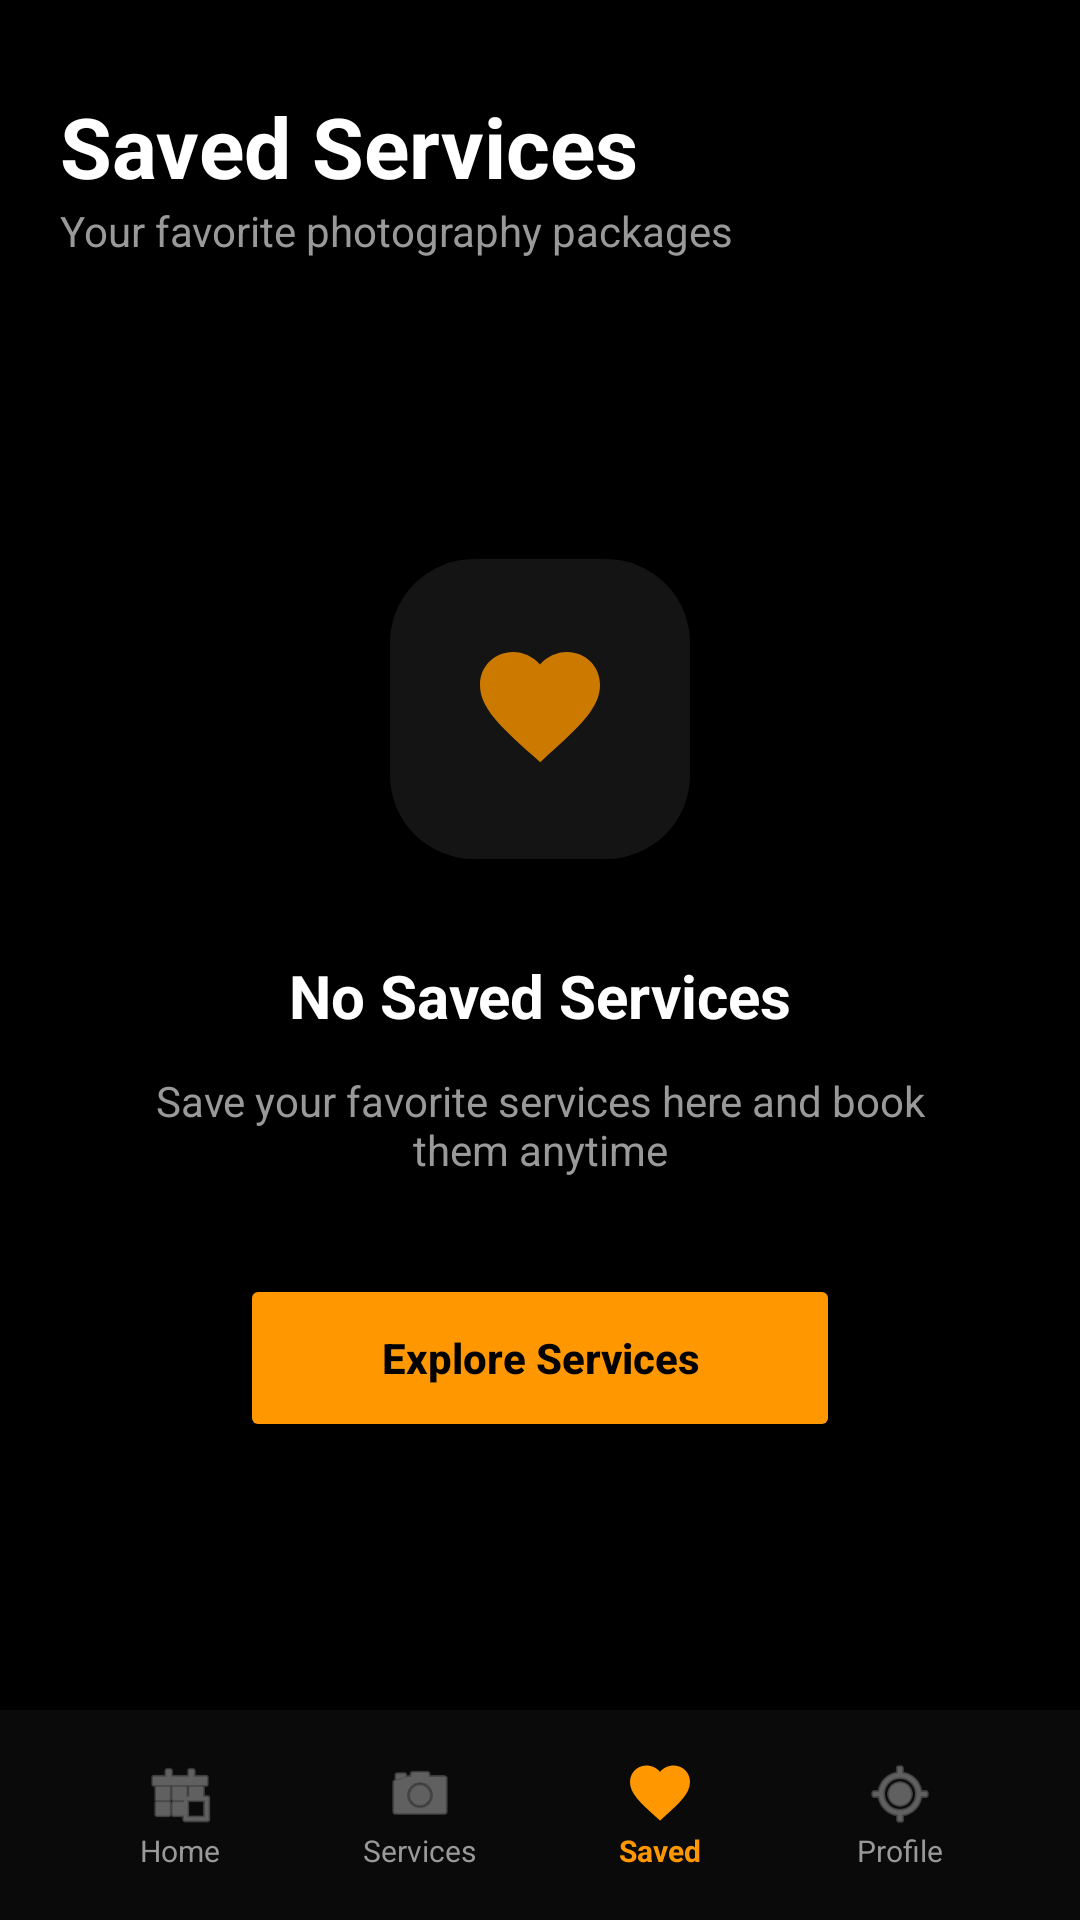

Screen size 1080px×1920px. Icon name, then its box in pixels as (x1, y1, x2, y2):
camera: (392, 1771, 448, 1815)
heart: (480, 652, 600, 763), (630, 1765, 690, 1821)
mylocation: (871, 1765, 929, 1823)
today: (151, 1768, 210, 1822)
